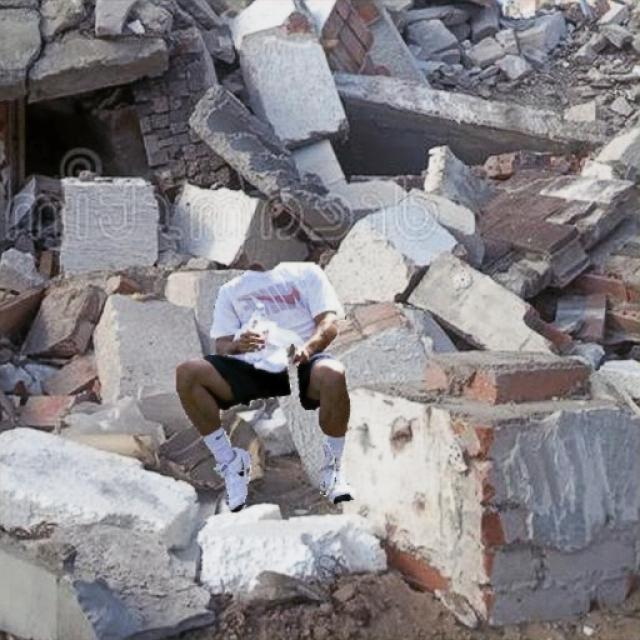Person in Rubble: (176, 263, 354, 512)
